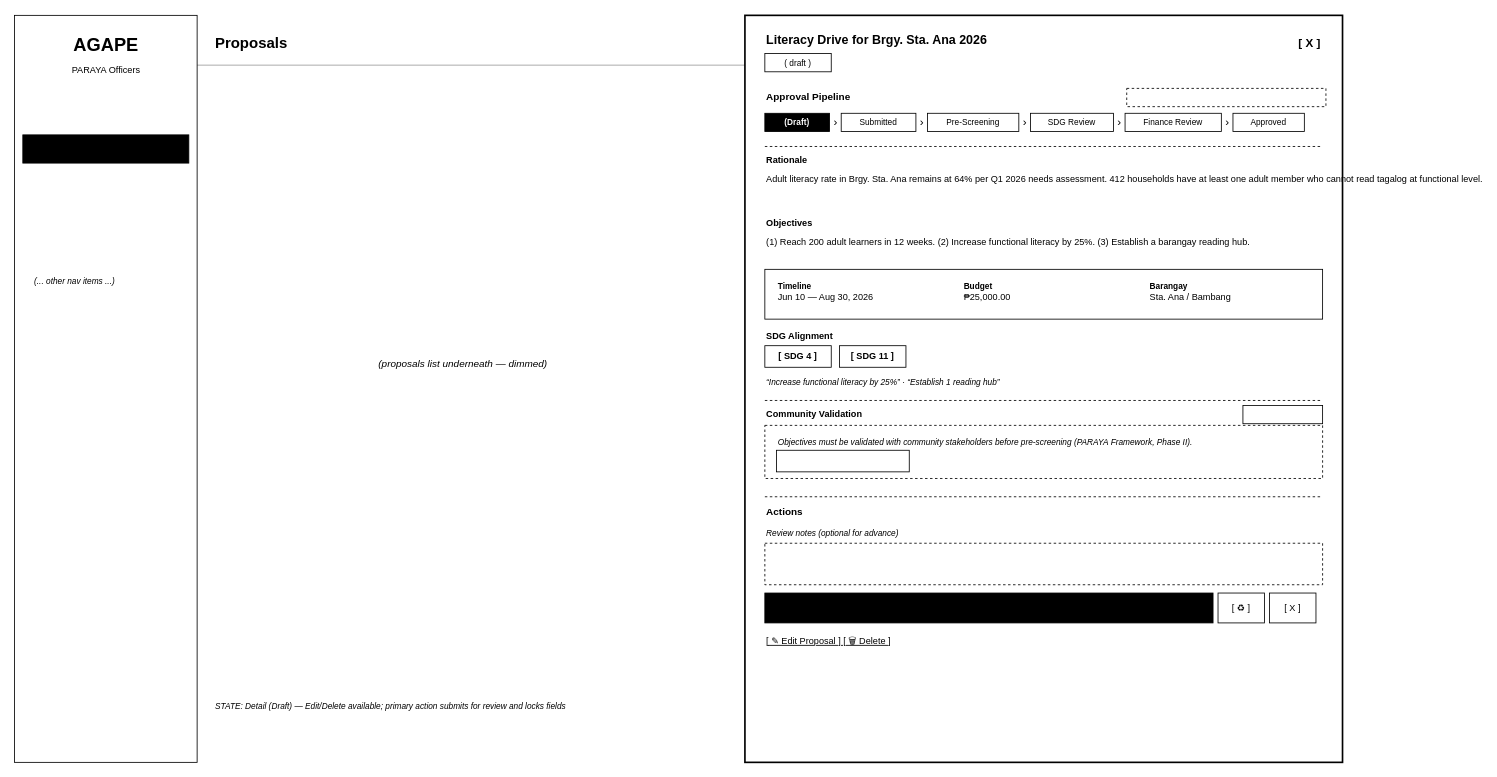
The diagram is 1497 pixels wide and 777 high, and some of its shapes have lost their labels. The shapes that lost their labels are listed below. From the top down, each one's centre as x and y in pixels, then its label:
At pixel 1226 97: "[ 🖨 Project Participation Form ]".
At pixel 105 148: "[x] Proposals".
At pixel 1282 414: "Pending".
At pixel 842 460: "[ ✓ Record validation ]".
At pixel 1043 563: "Add notes for this review stage…".
At pixel 988 607: "[ ➤ SUBMIT FOR REVIEW ]".
